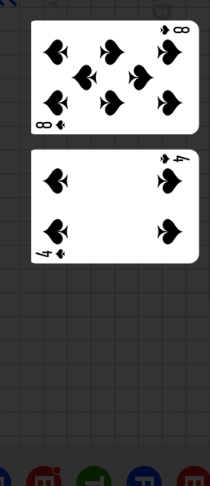4S: (34, 247, 67, 260)
8S: (157, 24, 191, 37)
